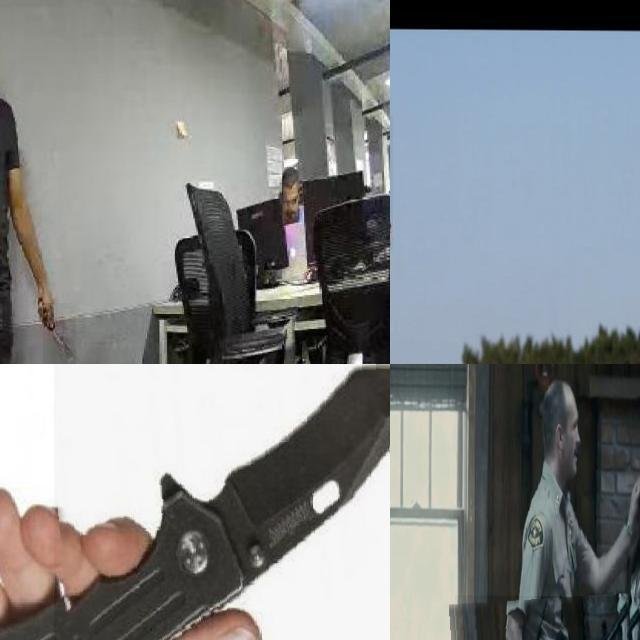-: (54, 364, 390, 640), (390, 114, 435, 249), (43, 303, 76, 364)
